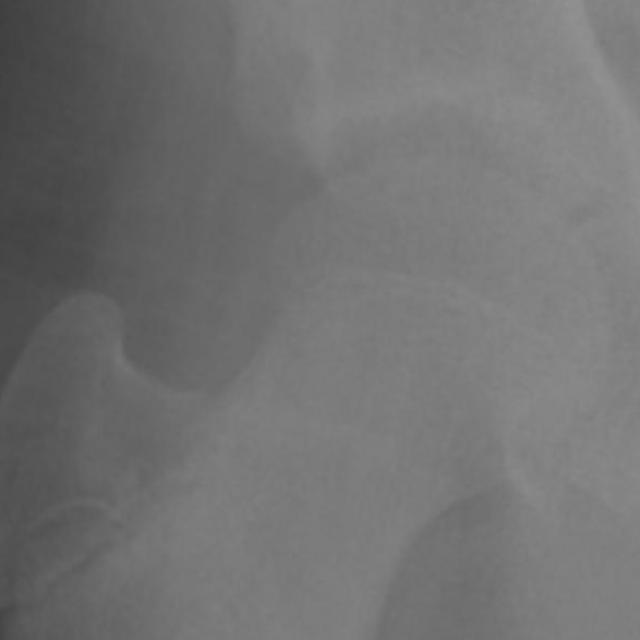Fitted_femural_head: (360, 154, 432, 360)
